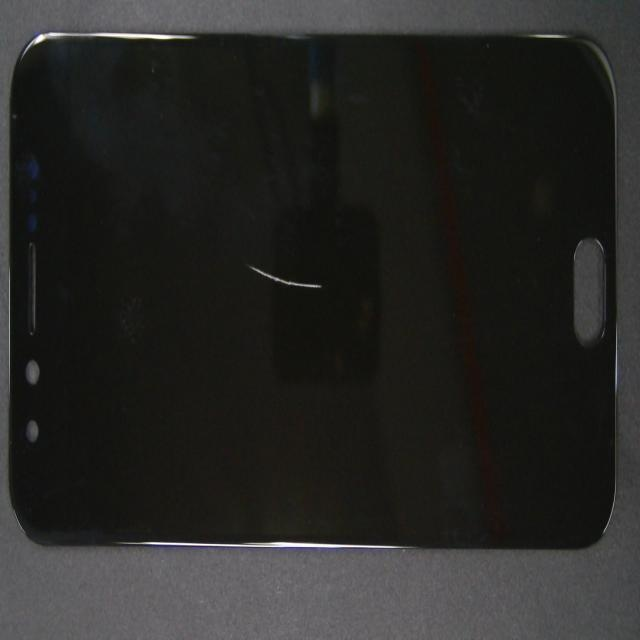scratch: (81, 132, 388, 433)
